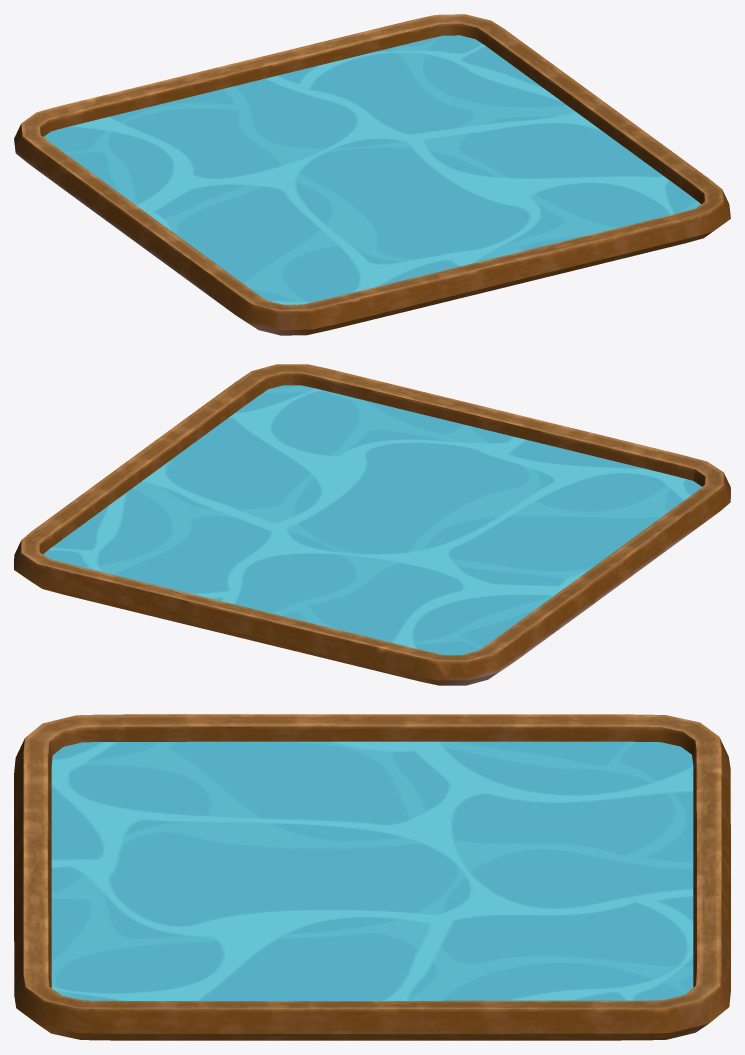
Rendered from bon_ca.glb.
The picture shows the model from 3 angles, top to bottom: view 1: azimuth 30°, elevation 25°; view 2: azimuth 150°, elevation 25°; view 3: azimuth 270°, elevation 25°; orthographic projection. The views are drawn at different scales.
Parts seen in each view (by area): view 1: bon_ca; view 2: bon_ca; view 3: bon_ca.
Boxes of the visible parts, x1,y1,x2,y2 form: bon_ca: (14, 14, 730, 335); bon_ca: (14, 364, 730, 685); bon_ca: (14, 714, 730, 1040).
Bounding box in the file's own units: 6.54 × 0.3532 × 6.54.
Materials: 2 (2 with a texture image).
